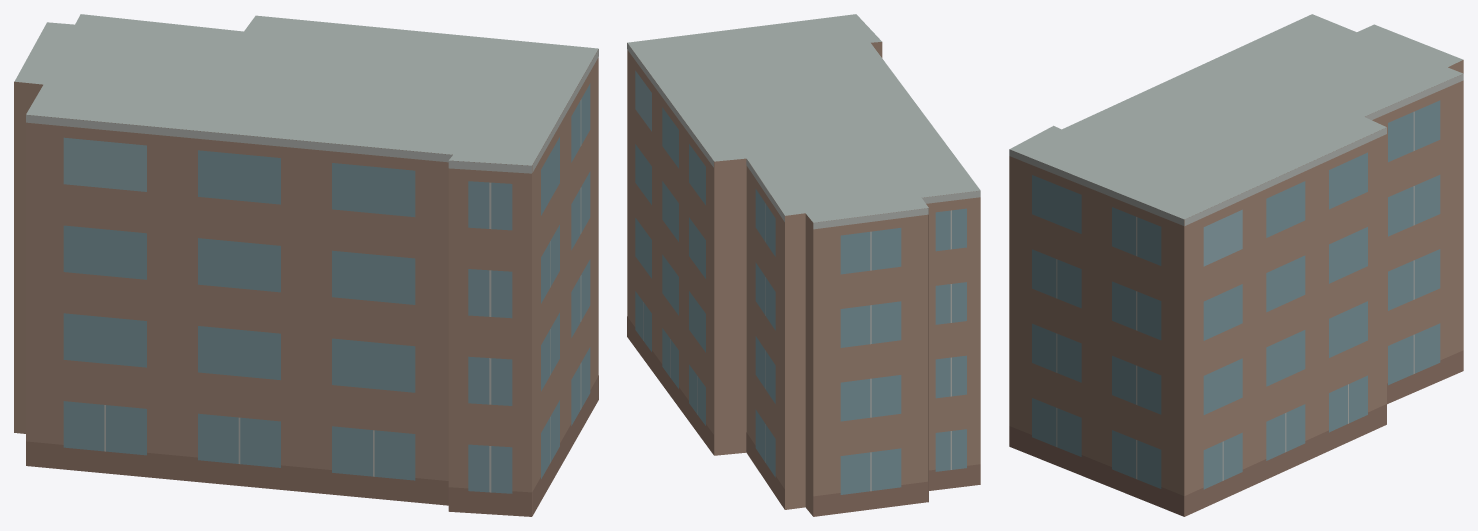
File: survey-upis-32770311.glb
3 renders of one model, left to right at view 1: azimuth 30°, elevation 25°; view 2: azimuth 150°, elevation 25°; view 3: azimuth 270°, elevation 25°, orthographic. The views are drawn at different scales.
Visible parts, largest first — view 1: survey-upis-32770311.tmp; view 2: survey-upis-32770311.tmp; view 3: survey-upis-32770311.tmp.
Boxes of the visible parts, left/top/right/bottom form: survey-upis-32770311.tmp: left=14, top=14, right=598, bottom=516; survey-upis-32770311.tmp: left=627, top=14, right=980, bottom=516; survey-upis-32770311.tmp: left=1009, top=14, right=1463, bottom=516.
Size of the model in its own units: 15.94 by 10.75 by 14.89.
